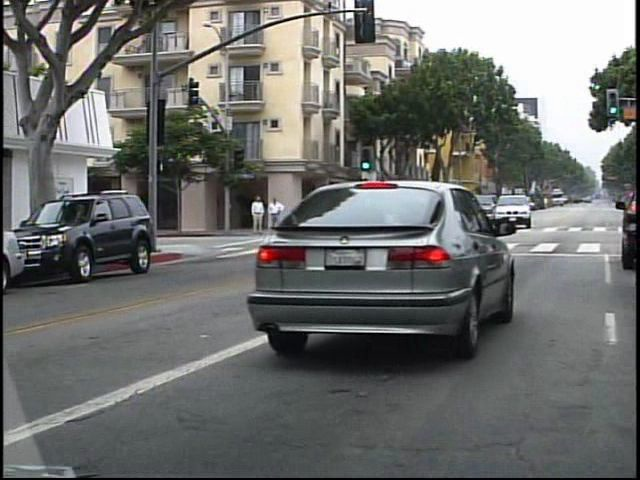person: (263, 194, 283, 235), (246, 191, 263, 236)
